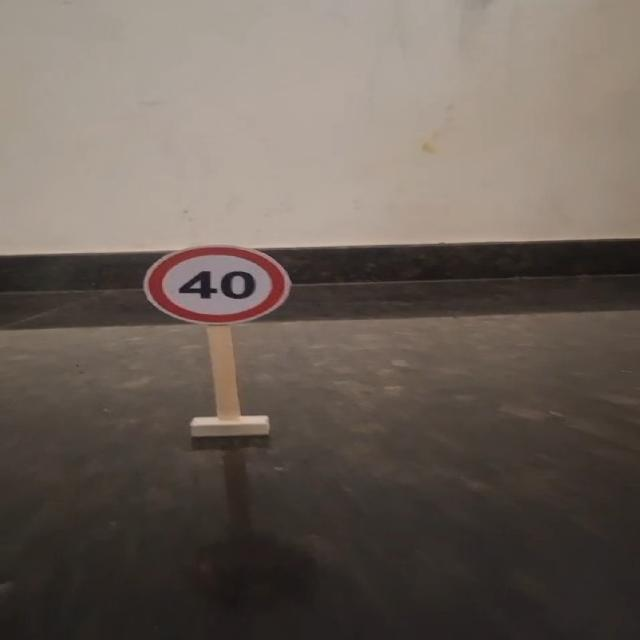Speed40: (138, 241, 296, 326)
